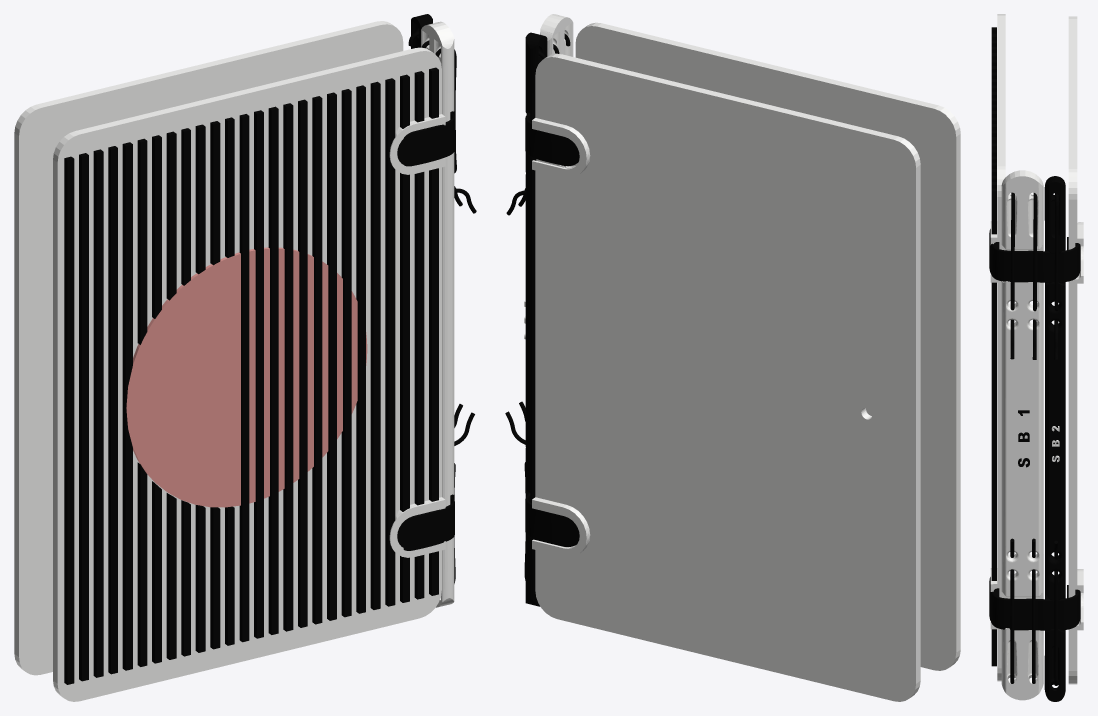
File: general.glb
3 views of the same model, side by side, from view 1: azimuth 30°, elevation 25°; view 2: azimuth 150°, elevation 25°; view 3: azimuth 270°, elevation 25° (orthographic). The views are drawn at different scales.
Parts seen in each view (by area): view 1: prova 2 cover 1 a6 v7, parte sotto a6, sidebarx2 a6, binder per a5,a6; view 2: parte sotto a6, prova 2 cover 1 a6 v7, sidebar a6, binder per a5,a6, sidebarx2 a6; view 3: sidebarx2 a6, sidebar a6, prova 2 cover 1 a6 v7, parte sotto a6, binder per a5,a6, laccio.005, laccio.003, laccio.004, laccio, laccio.001, laccio.002, sb1xdoppia.
Boxes of the visible parts, left/top/right/bottom form: prova 2 cover 1 a6 v7: left=53, top=47, right=445, bottom=701; parte sotto a6: left=14, top=21, right=403, bottom=675; sidebarx2 a6: left=421, top=21, right=454, bottom=607; binder per a5,a6: left=397, top=112, right=454, bottom=550; parte sotto a6: left=532, top=53, right=920, bottom=701; prova 2 cover 1 a6 v7: left=575, top=22, right=960, bottom=670; sidebar a6: left=525, top=32, right=547, bottom=606; binder per a5,a6: left=525, top=113, right=579, bottom=546; sidebarx2 a6: left=540, top=14, right=573, bottom=56; sidebarx2 a6: left=1001, top=170, right=1043, bottom=700; sidebar a6: left=1044, top=176, right=1065, bottom=701; prova 2 cover 1 a6 v7: left=990, top=14, right=1005, bottom=681; parte sotto a6: left=1068, top=16, right=1083, bottom=684; binder per a5,a6: left=989, top=229, right=1080, bottom=630; laccio.005: left=1054, top=193, right=1058, bottom=359; laccio.003: left=1010, top=192, right=1014, bottom=359; laccio.004: left=1032, top=193, right=1037, bottom=359; laccio: left=1010, top=538, right=1014, bottom=683; laccio.001: left=1032, top=538, right=1035, bottom=683; laccio.002: left=1054, top=540, right=1057, bottom=685; sb1xdoppia: left=1018, top=410, right=1029, bottom=467.
Size of the model in its own units: 11.67 by 15.14 by 2.47.
